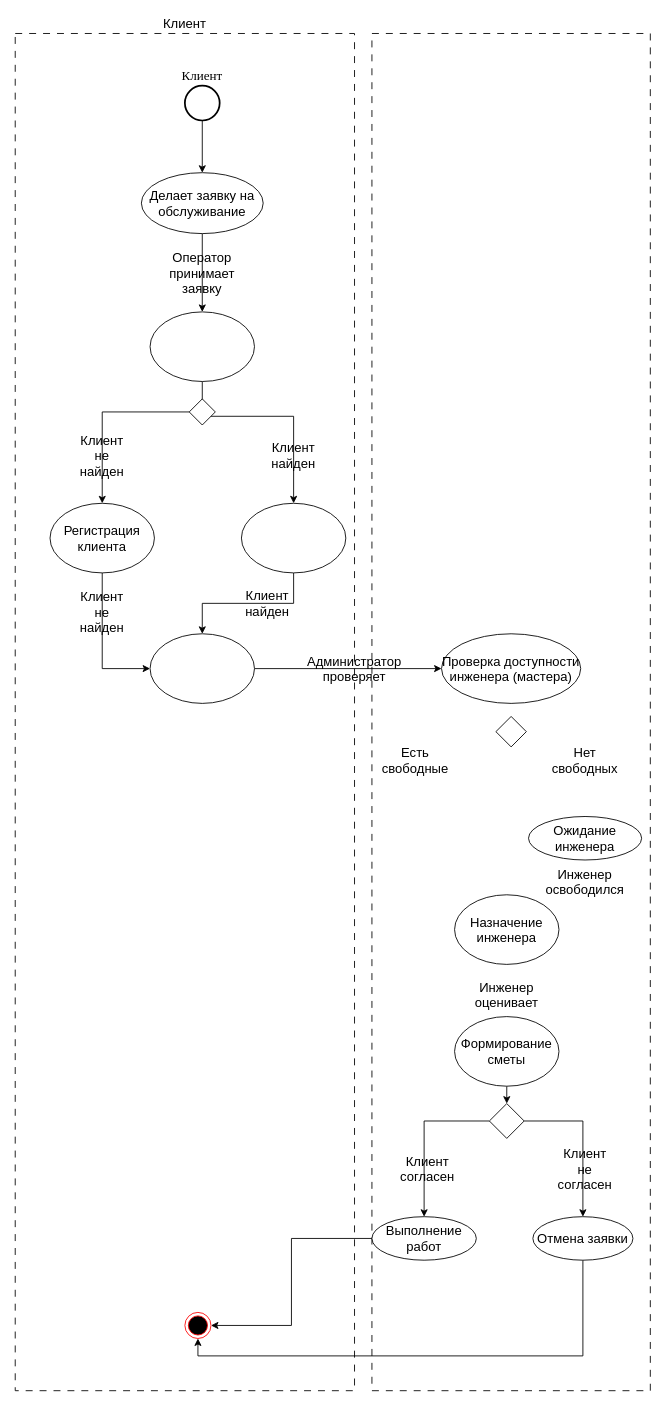
Some shapes in this 666 by 1406 pixel diagram are drawn without their labels. Here are the shapes that lost their labels. From the top down, the box of each, then its label:
(149, 311, 254, 381): Проверка клиента
(241, 502, 346, 573): Существующий клиент
(149, 633, 254, 703): Создание заявки
(371, 33, 650, 1391): Администратор
